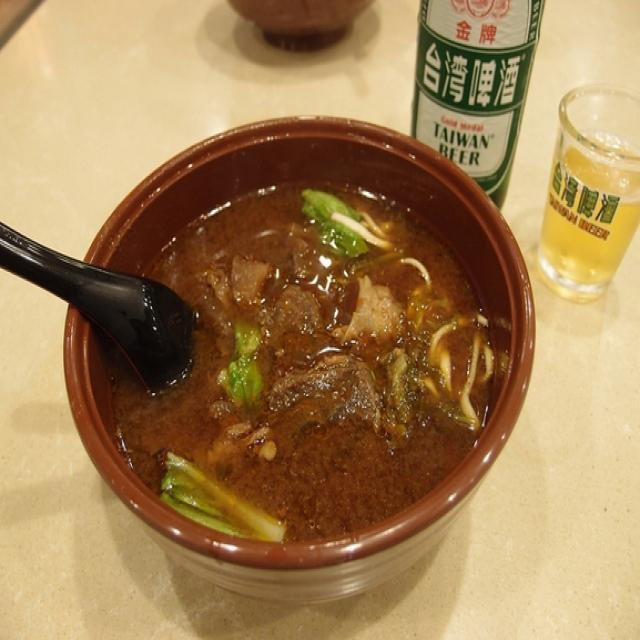面条主食: (45, 85, 538, 608)
